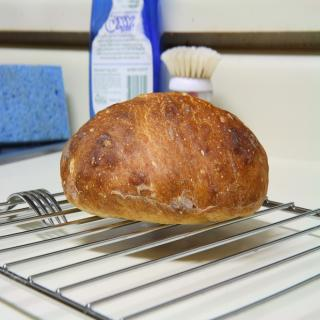Bread: (58, 92, 270, 222)
